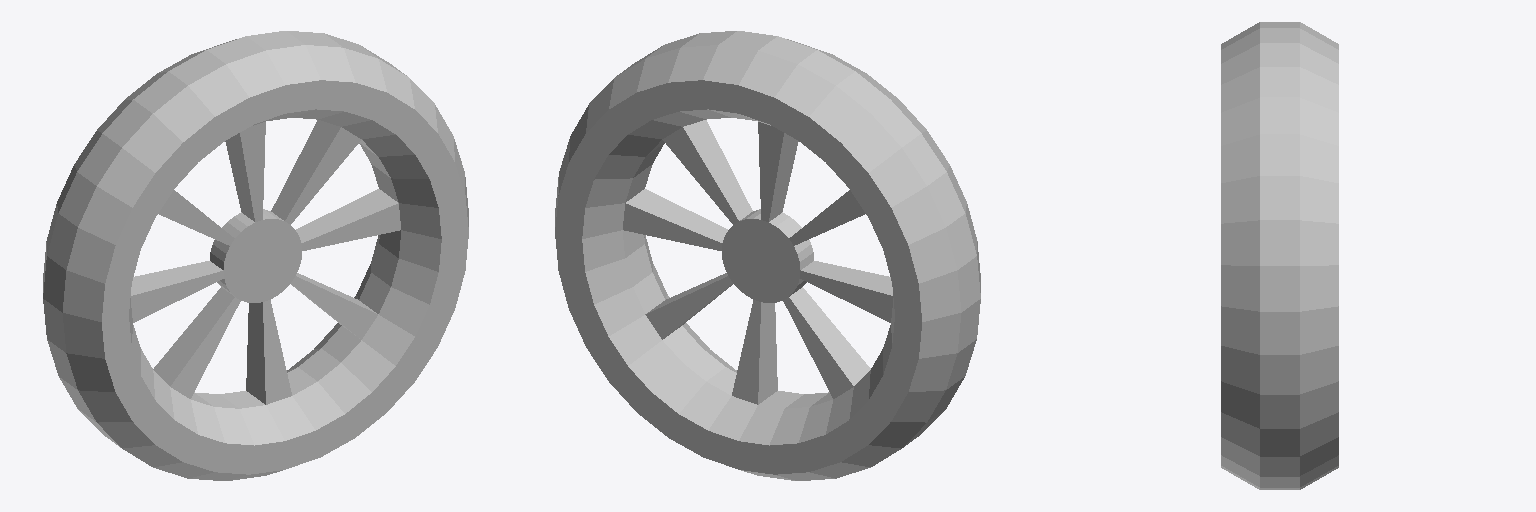
File: wheel.obj
3 views of the same model, side by side, from view 1: azimuth 30°, elevation 25°; view 2: azimuth 150°, elevation 25°; view 3: azimuth 270°, elevation 25° (orthographic).
Parts seen in each view (by area): view 1: Cylinder001; view 2: Cylinder001; view 3: Cylinder001.
Part boxes in pixels (x1,y1,x2,y2): Cylinder001: (43, 31, 468, 480); Cylinder001: (555, 31, 980, 480); Cylinder001: (1221, 22, 1338, 489).
Bounding box in the file's own units: 20 × 20 × 5.